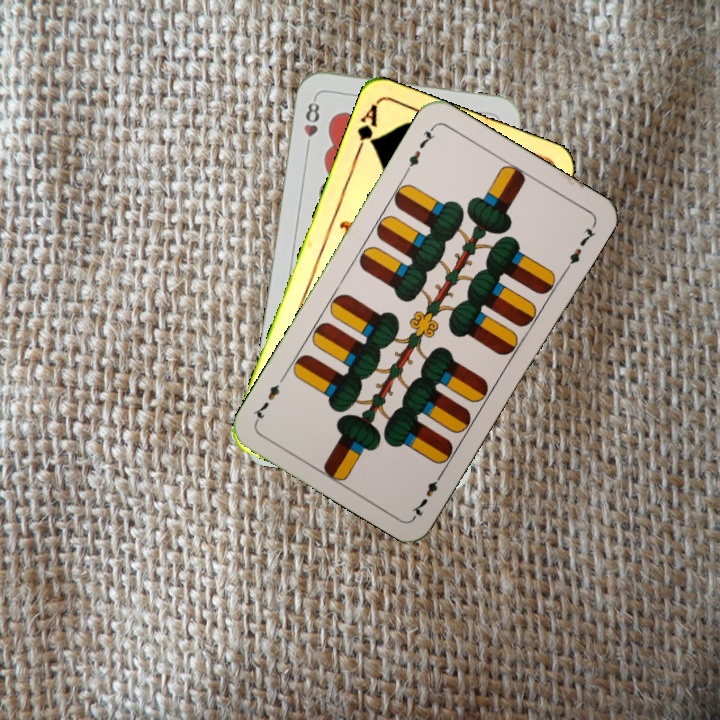E7: (408, 467, 447, 520), (401, 122, 438, 176)
GA: (352, 100, 380, 158)
H8: (300, 94, 322, 153)
